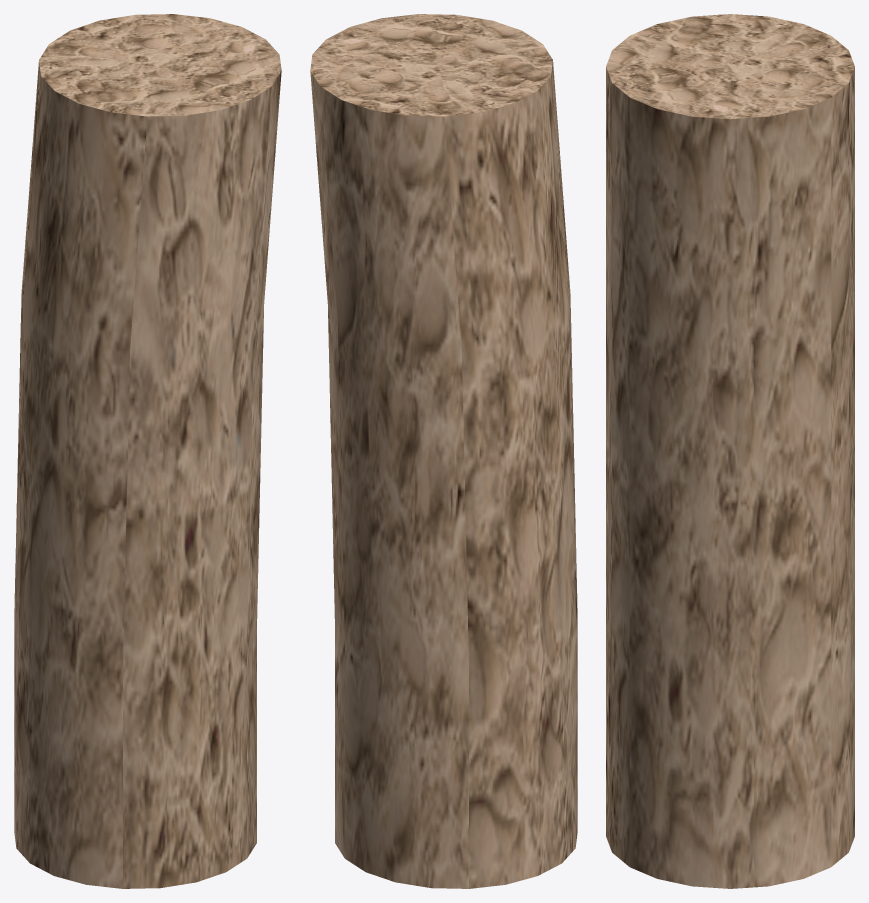
The model's file is food.fbx.
The picture shows the model from 3 angles, left to right: view 1: azimuth 30°, elevation 25°; view 2: azimuth 150°, elevation 25°; view 3: azimuth 270°, elevation 25°; orthographic projection. The views are drawn at different scales.
Parts seen in each view (by area): view 1: food; view 2: food; view 3: food.
Part boxes in pixels (bbox=[...]): food: bbox=[14, 14, 281, 888]; food: bbox=[310, 14, 577, 888]; food: bbox=[606, 14, 854, 888].
Bounding box in the file's own units: 14.89 × 46.22 × 13.33.
Materials: 1 (1 with a texture image).
